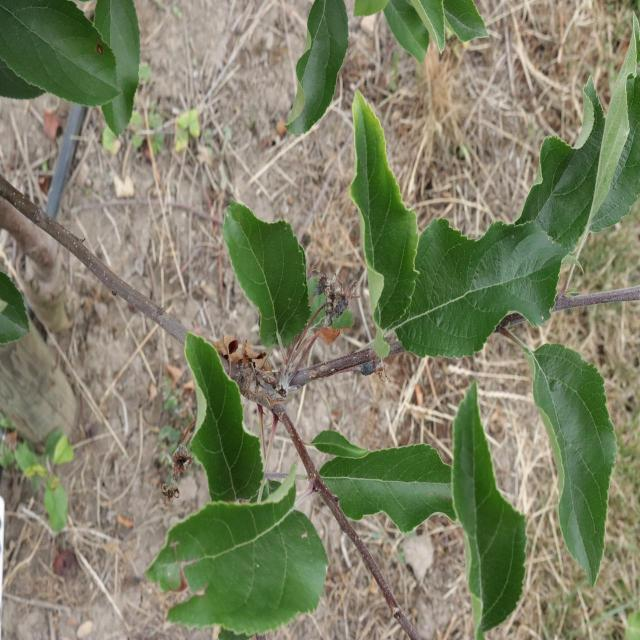-FireBlight-: (218, 327, 268, 375)
